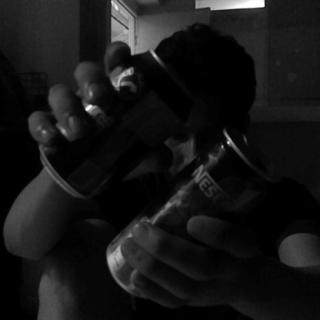alumunium_can: (107, 124, 275, 297), (36, 43, 198, 199)
